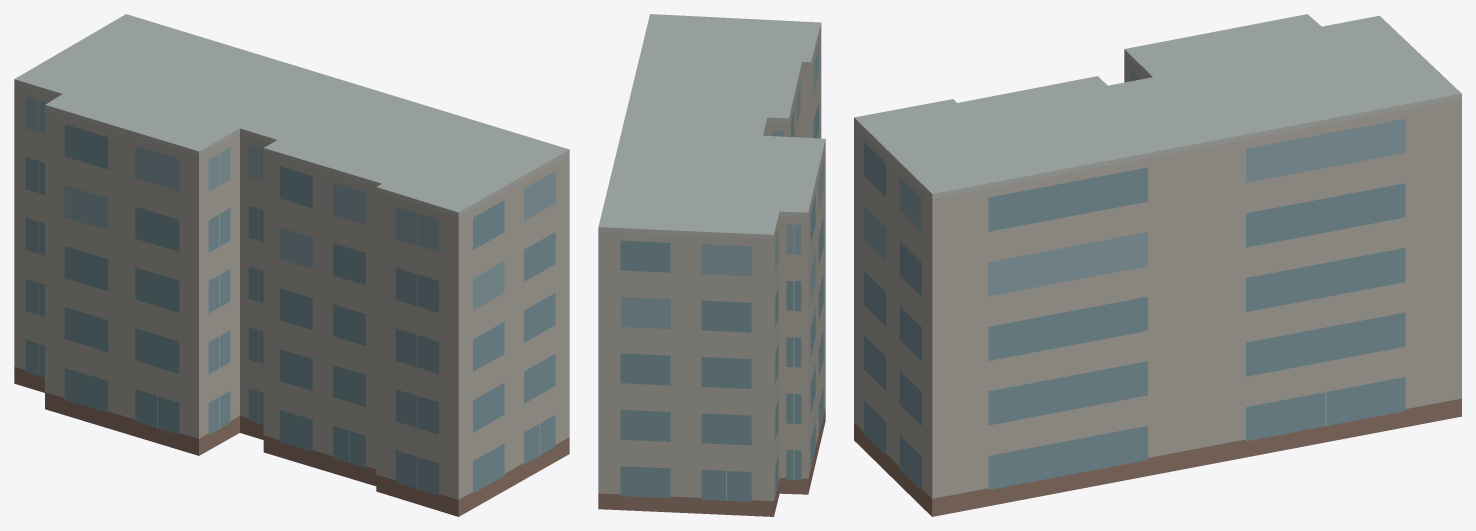
The model's file is survey-upis-32537365.glb.
3 renders of one model, left to right at view 1: azimuth 30°, elevation 25°; view 2: azimuth 150°, elevation 25°; view 3: azimuth 270°, elevation 25°, orthographic. The views are drawn at different scales.
Visible parts, largest first — view 1: survey-upis-32537365.tmp; view 2: survey-upis-32537365.tmp; view 3: survey-upis-32537365.tmp.
Part boxes in pixels (x1,y1,x2,y2): survey-upis-32537365.tmp: (14,14,569,516); survey-upis-32537365.tmp: (598,14,825,516); survey-upis-32537365.tmp: (854,14,1461,516).
Bounding box in the file's own units: 18.94 × 15.84 × 27.03.
